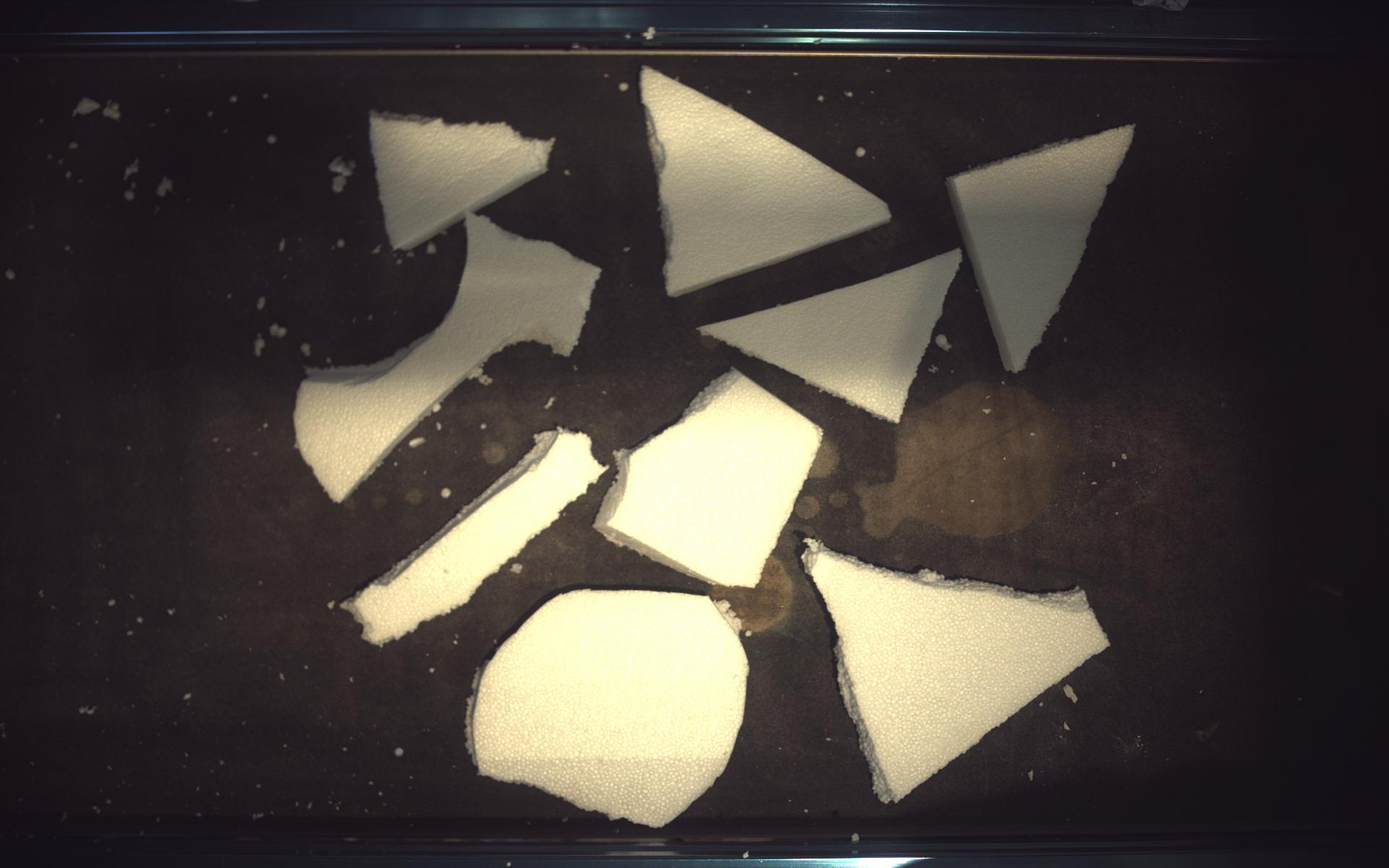foam: (294, 214, 600, 502), (804, 541, 1110, 804), (467, 590, 749, 829), (341, 429, 608, 646), (641, 66, 892, 295), (595, 370, 824, 588), (949, 124, 1137, 372), (700, 249, 964, 422), (371, 110, 553, 249)
